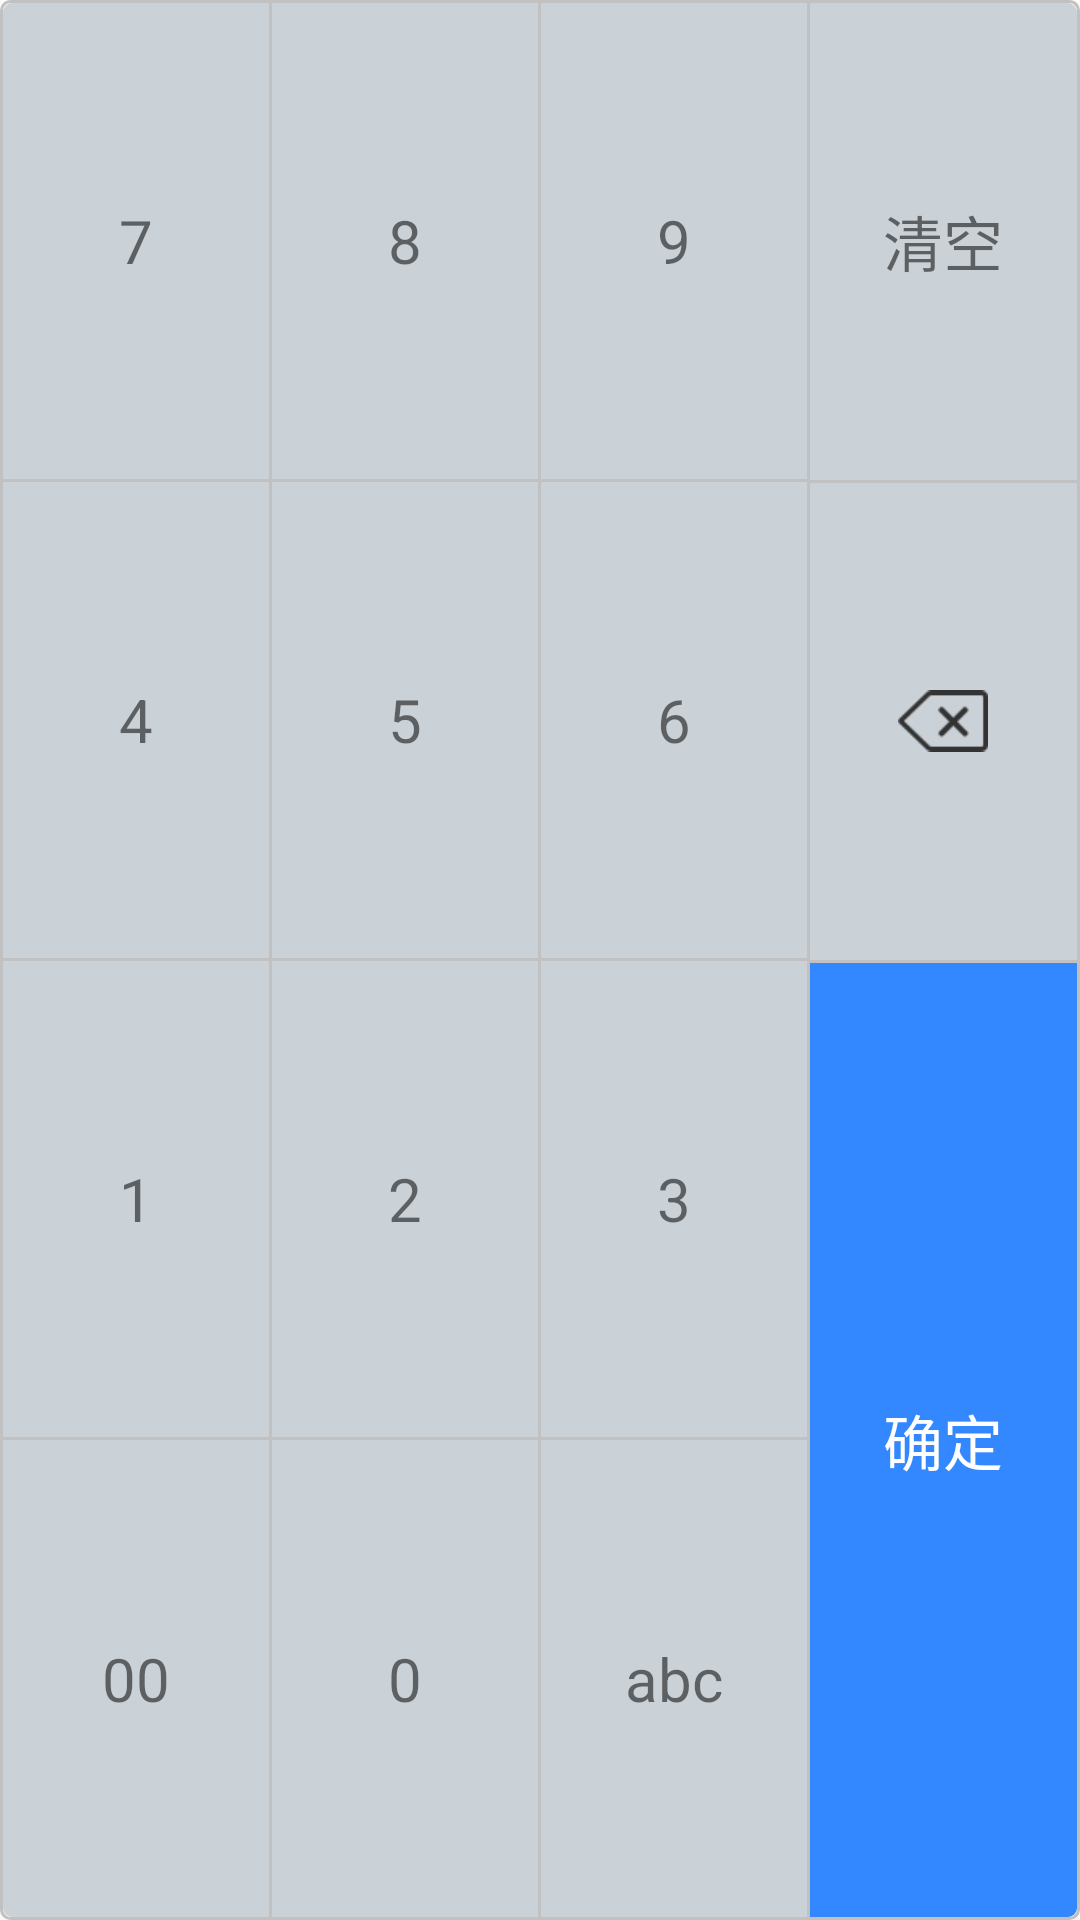

Icons on this 1080px×1920px Android screen, each with the point to tap as (x=x, y=y):
delete key: (x=943, y=721)
